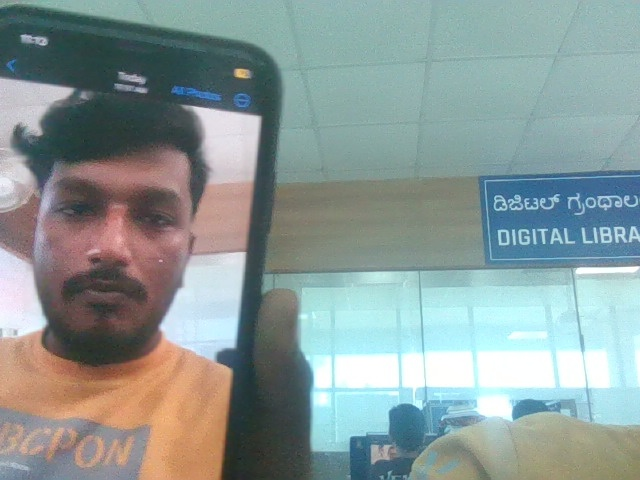fake: (10, 62, 227, 369)
